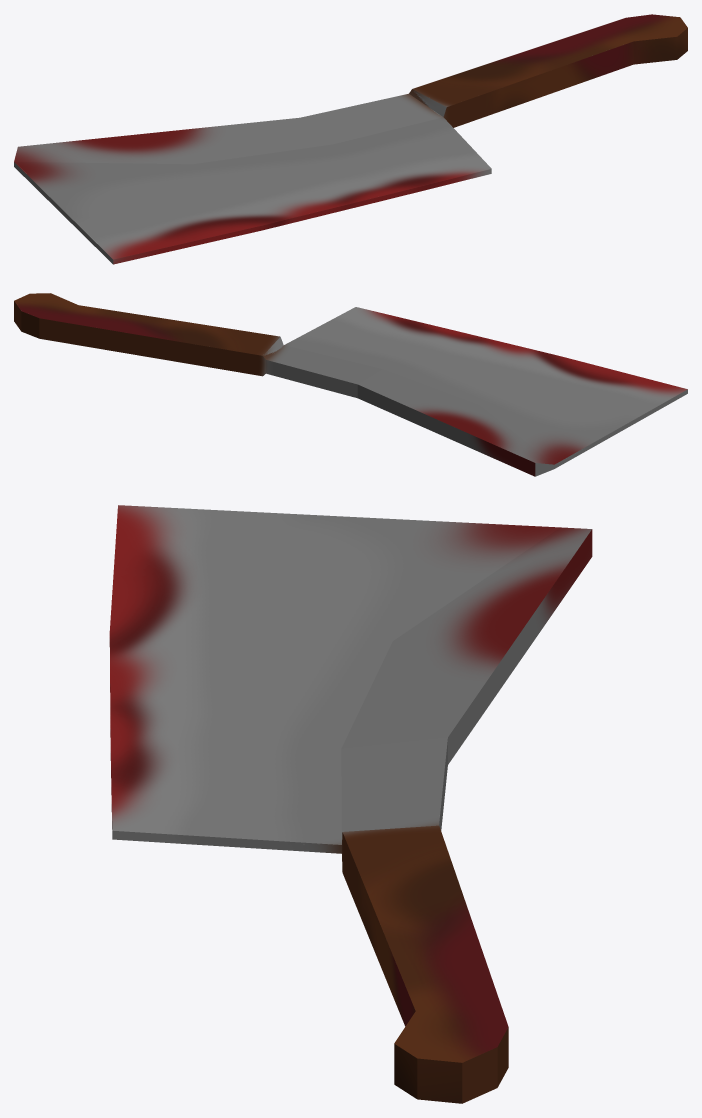
Rendered from Cleaver.fbx.
3 views of the same model, one above another, from view 1: azimuth 30°, elevation 25°; view 2: azimuth 150°, elevation 25°; view 3: azimuth 270°, elevation 25° (orthographic). The views are drawn at different scales.
Visible parts, largest first — view 1: Cleaver; view 2: Cleaver; view 3: Cleaver.
Part boxes in pixels (<box>): Cleaver: <box>14,14,687,264</box>; Cleaver: <box>14,293,687,476</box>; Cleaver: <box>109,505,592,1103</box>.
Size of the model in its own units: 211 by 7.02 by 74.91.
1 material, 1 textured.
